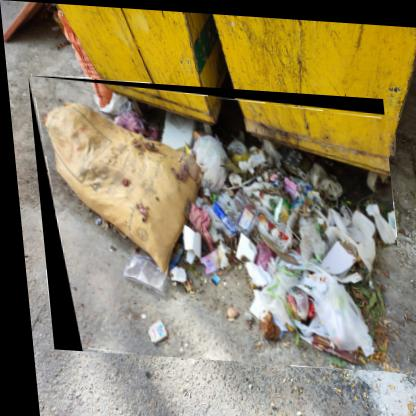Garbage: (28, 76, 404, 370)
